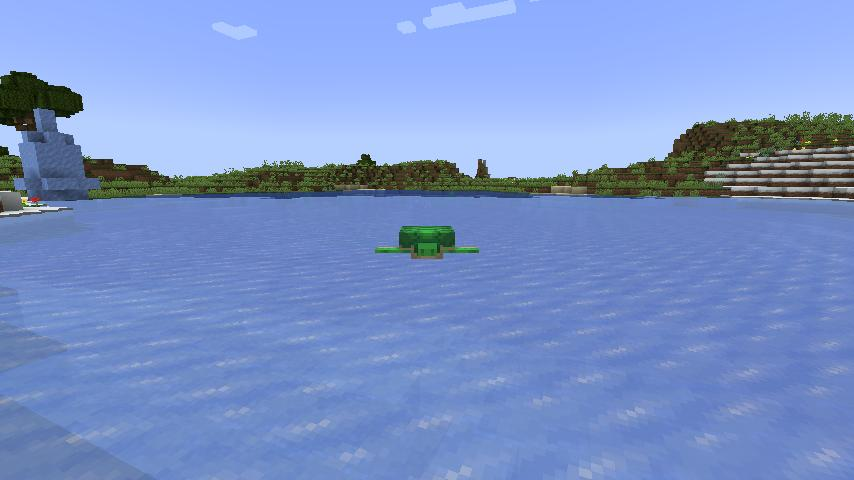turtle: (374, 221, 484, 264)
